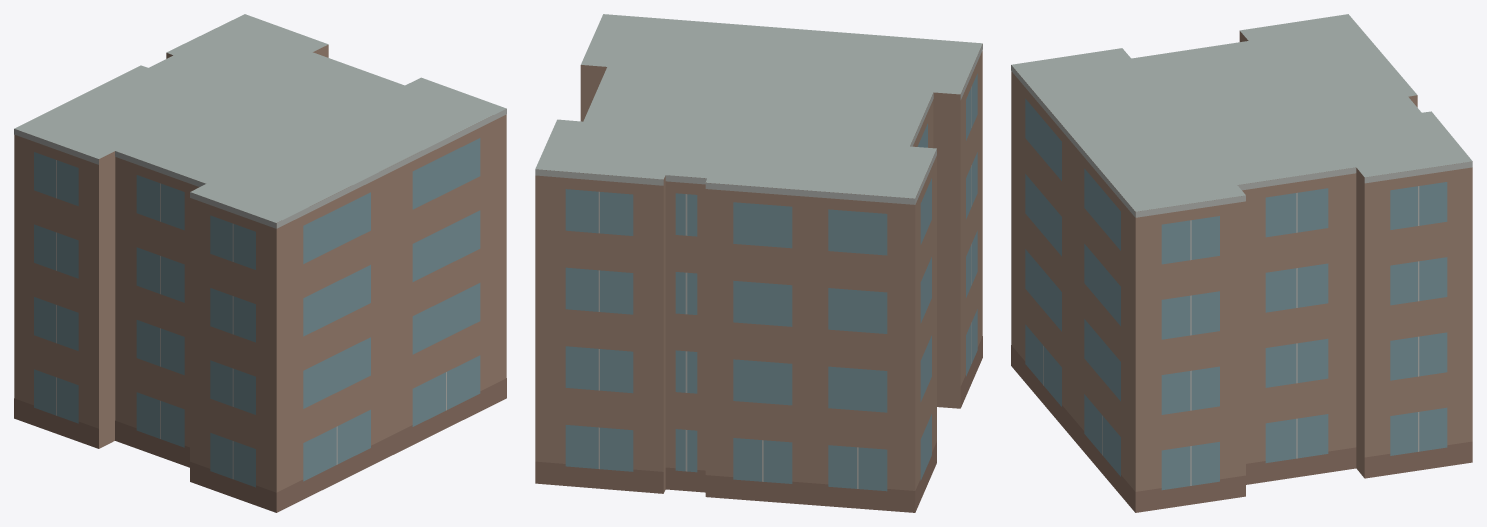
The model's file is survey-upis-32774351.glb.
3 renders of one model, left to right at view 1: azimuth 30°, elevation 25°; view 2: azimuth 150°, elevation 25°; view 3: azimuth 270°, elevation 25°, orthographic. The views are drawn at different scales.
Visible parts, largest first — view 1: survey-upis-32774351.tmp; view 2: survey-upis-32774351.tmp; view 3: survey-upis-32774351.tmp.
Boxes of the visible parts, <box> form: survey-upis-32774351.tmp: <box>14,14,506,512</box>; survey-upis-32774351.tmp: <box>535,14,982,512</box>; survey-upis-32774351.tmp: <box>1011,14,1472,512</box>.
Size of the model in its own units: 17.2 by 12.2 by 16.96.
